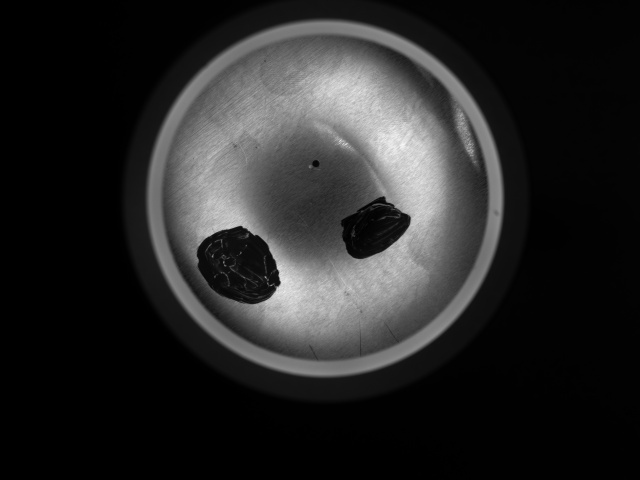zang_wu: (196, 225, 283, 304), (339, 194, 413, 259)
zhen_kong: (309, 158, 322, 171)
